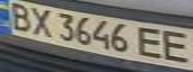3: (51, 11, 78, 43)
4: (90, 18, 112, 51)
6: (109, 20, 136, 55), (72, 15, 93, 47)
B: (3, 1, 36, 31)
E: (157, 28, 193, 64), (136, 25, 169, 60)
X: (24, 6, 57, 38)
